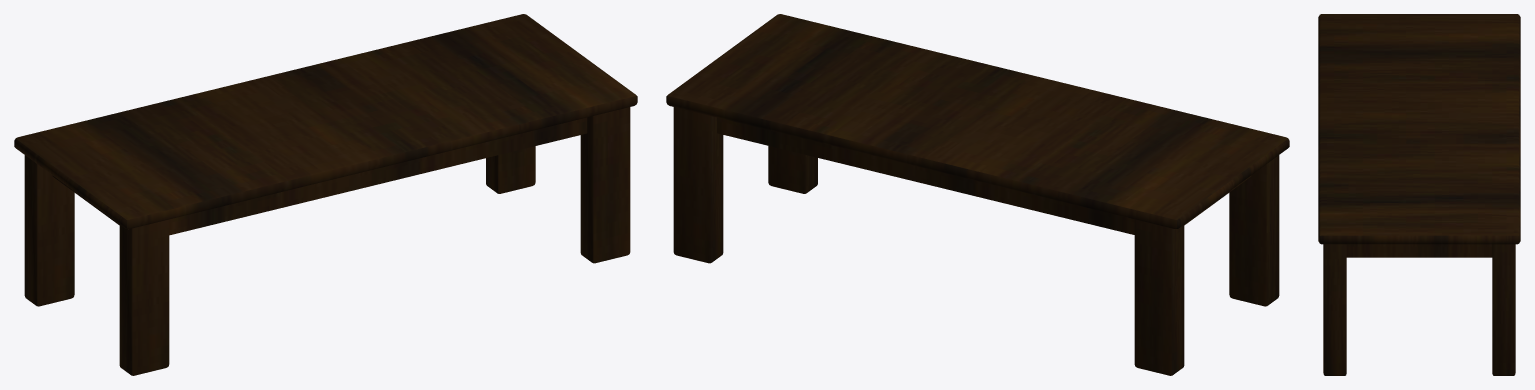
File: Dining table.FBX
3 renders of one model, left to right at view 1: azimuth 30°, elevation 25°; view 2: azimuth 150°, elevation 25°; view 3: azimuth 270°, elevation 25°, orthographic. The views are drawn at different scales.
Parts seen in each view (by area): view 1: Dining table; view 2: Dining table; view 3: Dining table.
Part boxes in pixels (bbox=[...]): Dining table: bbox=[14, 14, 637, 375]; Dining table: bbox=[666, 14, 1289, 375]; Dining table: bbox=[1318, 14, 1520, 375].
Size of the model in its own units: 335 by 101 by 128.
1 material, 1 textured.
